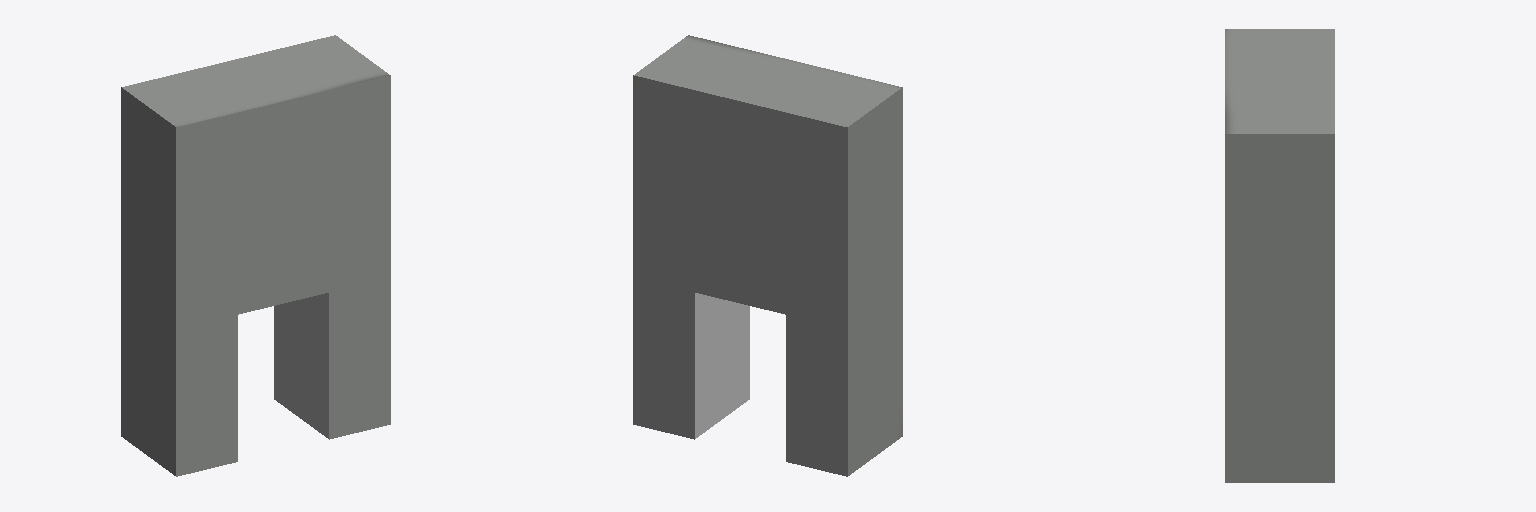
The picture shows the model from 3 angles: view 1: azimuth 30°, elevation 25°; view 2: azimuth 150°, elevation 25°; view 3: azimuth 270°, elevation 25°; orthographic projection.
Parts seen in each view (by area): view 1: 立方体.001; view 2: 立方体.001; view 3: 立方体.001.
Boxes of the visible parts, x1,y1,x2,y2 form: 立方体.001: [121, 35, 390, 476]; 立方体.001: [633, 35, 902, 476]; 立方体.001: [1225, 29, 1334, 482].
Bounding box in the file's own units: 18 × 28.07 × 8.
2 materials, 1 textured.